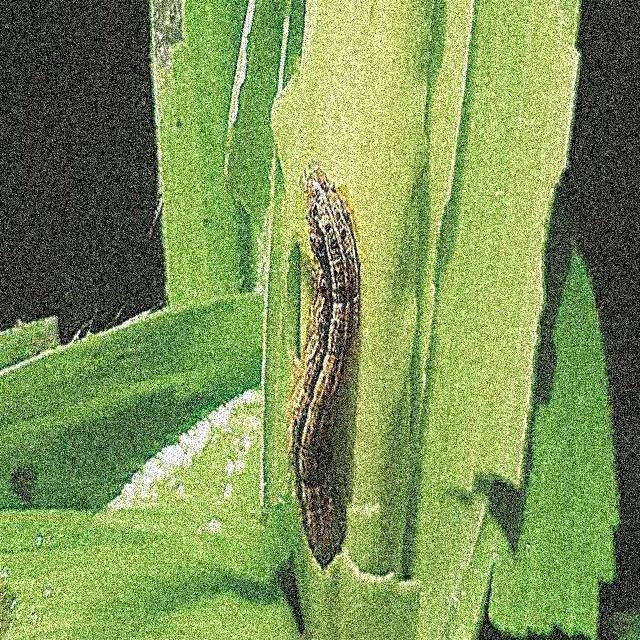gusano_cogollero: (287, 166, 365, 564)
